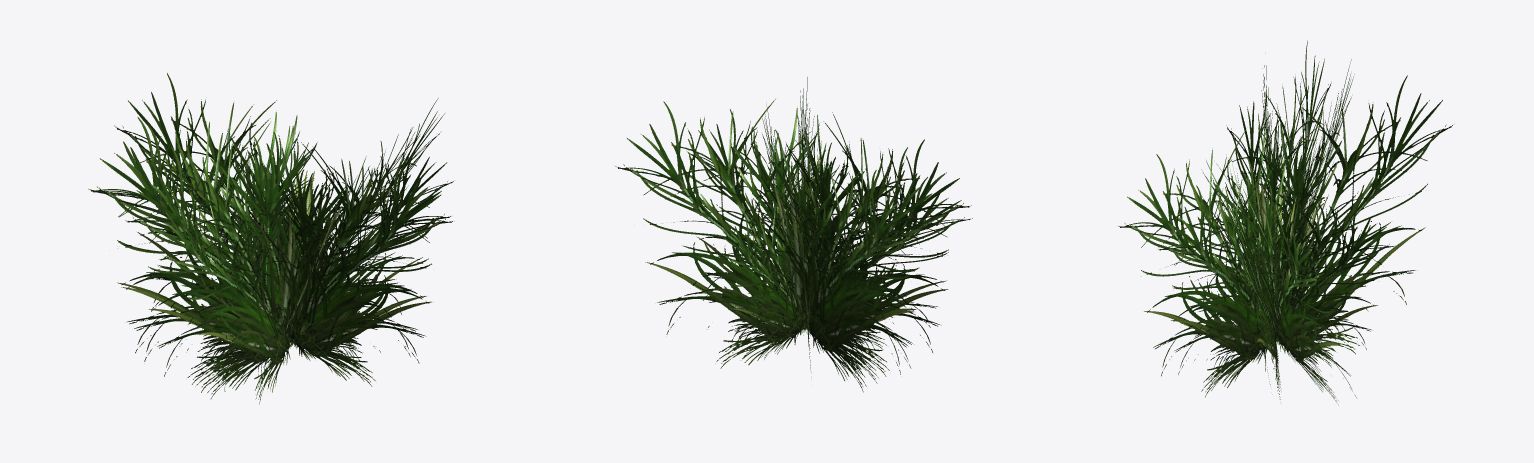
File: Grass_1.fbx
3 renders of one model, left to right at view 1: azimuth 30°, elevation 25°; view 2: azimuth 150°, elevation 25°; view 3: azimuth 270°, elevation 25°, orthographic. The views are drawn at different scales.
Parts seen in each view (by area): view 1: Grass_1; view 2: Grass_1; view 3: Grass_1.
Boxes of the visible parts, x1,y1,x2,y2 form: Grass_1: (88,73,453,404); Grass_1: (615,77,972,392); Grass_1: (1118,40,1452,405).
Bounding box in the file's own units: 2049 × 1667 × 1716.
